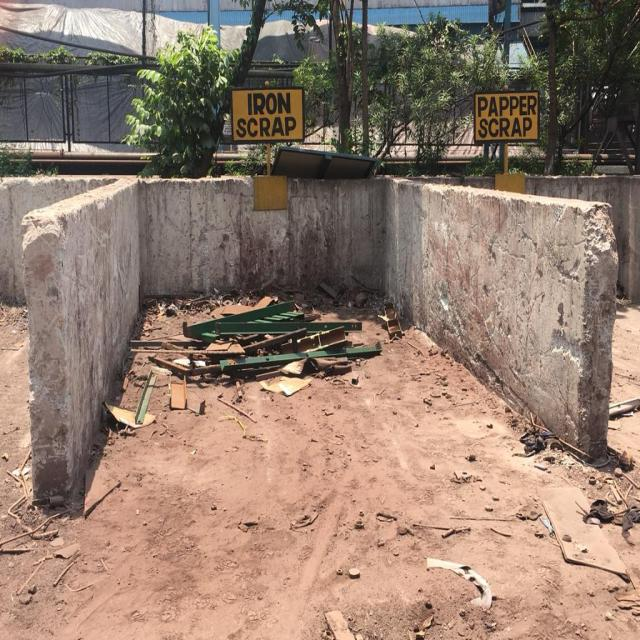dustbins: (29, 172, 611, 502)
